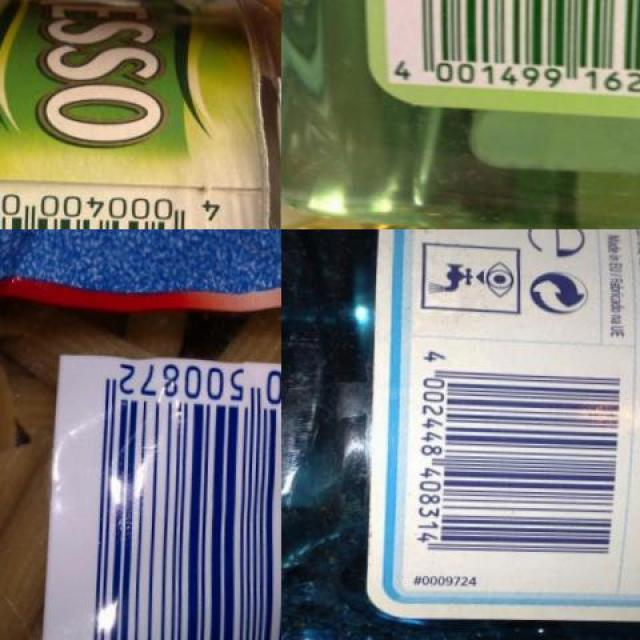Barcode: (55, 353, 281, 640), (405, 340, 634, 576), (381, 0, 640, 99), (0, 179, 260, 229)
